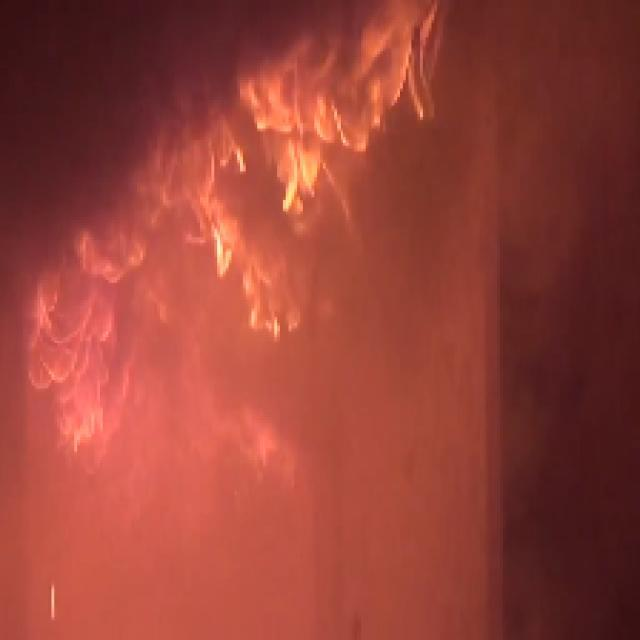Fire: (182, 23, 454, 323), (28, 235, 172, 454)
Smoke: (474, 11, 629, 468), (6, 8, 174, 232), (186, 354, 306, 534)
